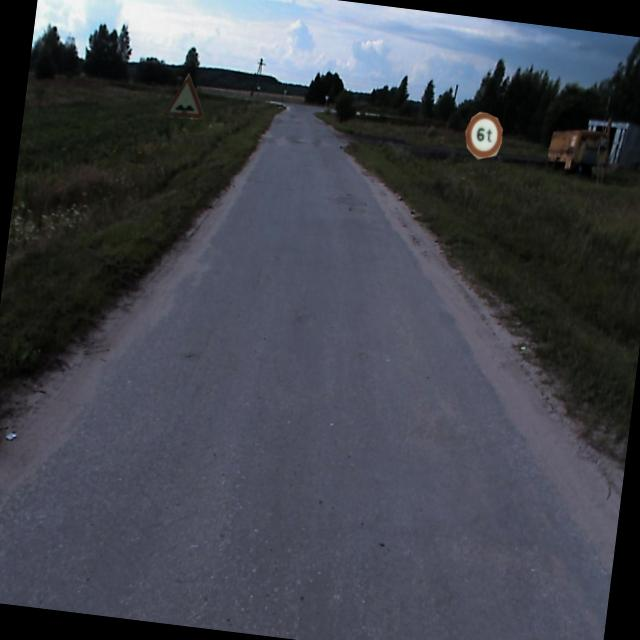road: (0, 109, 611, 640)
